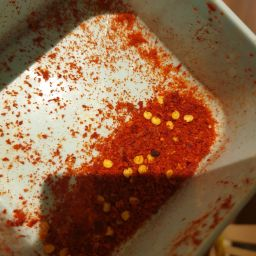Red pepper flakes: (71, 73, 226, 208), (50, 8, 189, 126), (5, 57, 82, 245), (18, 163, 131, 256), (123, 107, 198, 198), (99, 108, 175, 184)
